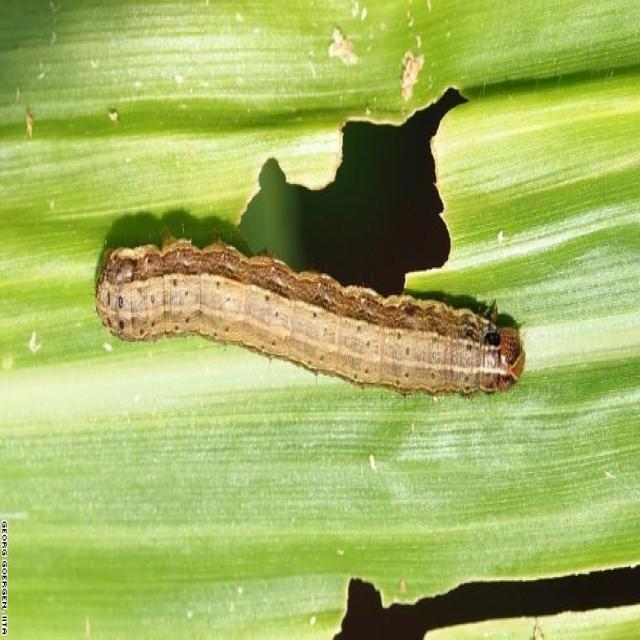army worm: (94, 234, 529, 402)
